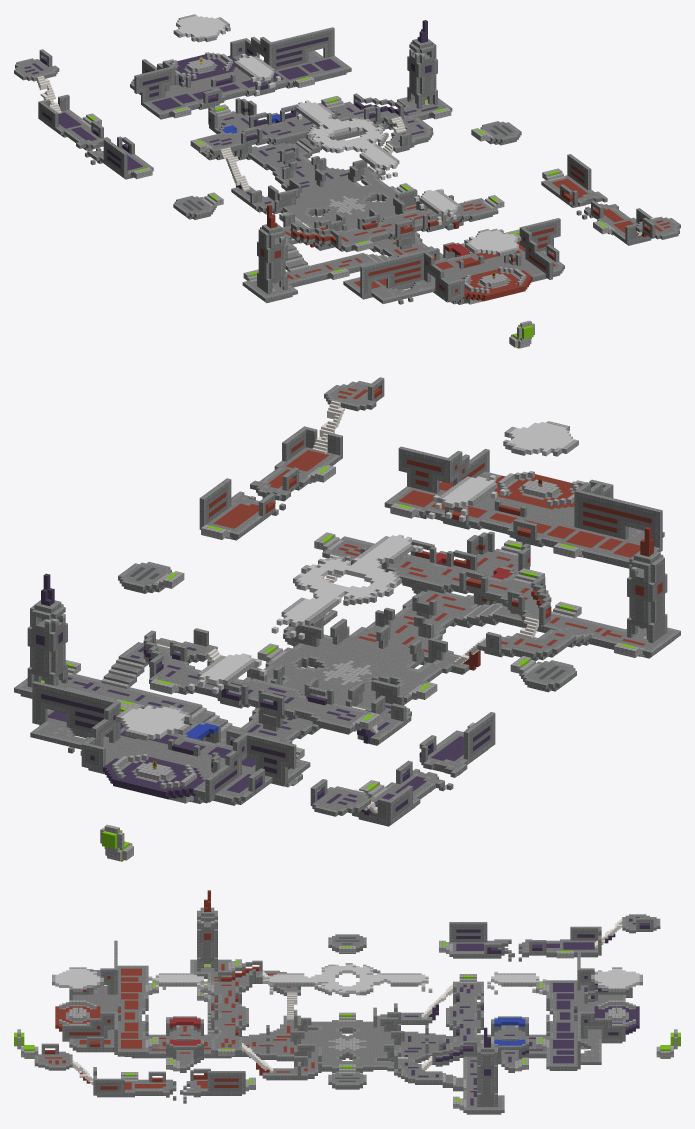
The model's file is minecraft.obj.
3 views of the same model, one above another, from view 1: azimuth 30°, elevation 25°; view 2: azimuth 150°, elevation 25°; view 3: azimuth 270°, elevation 25° (orthographic). The views are drawn at different scales.
Bounding box in the file's own units: 105 × 31 × 193.
